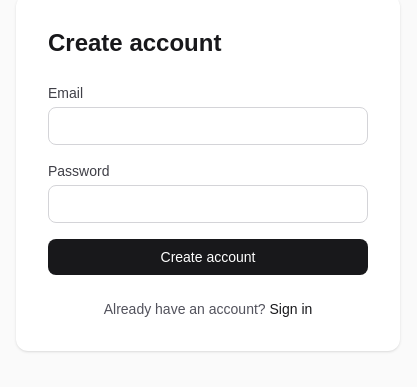
Test: RegisterPage › shows a form-level error when registration fails
The width and height of the screenshot is (417, 387).
Type "bob@example.com" into the field labelled "Email" at (208, 126), box top-left (48, 107), bottom-right (368, 145)
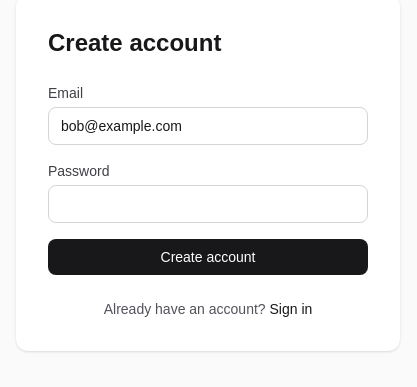
Type "securepass123" into the password field labelled "Password" at (208, 204), box top-left (48, 185), bottom-right (368, 223)
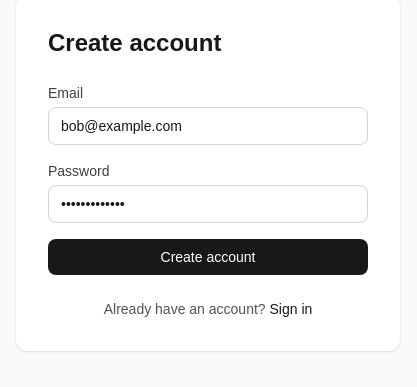
Click the button "Create account" at (208, 257), box top-left (48, 239), bottom-right (368, 275)
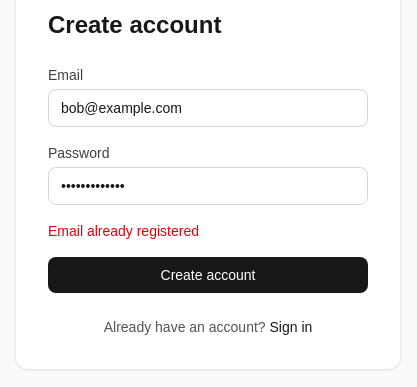
Result: the text "Email already registered" is shown at top-left (48, 223), bottom-right (199, 239)
